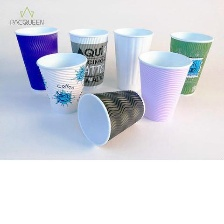paper_cup: (72, 86, 148, 149), (136, 47, 194, 123), (32, 49, 91, 117), (165, 28, 216, 99), (12, 24, 62, 95), (109, 23, 155, 93), (66, 25, 110, 93)
